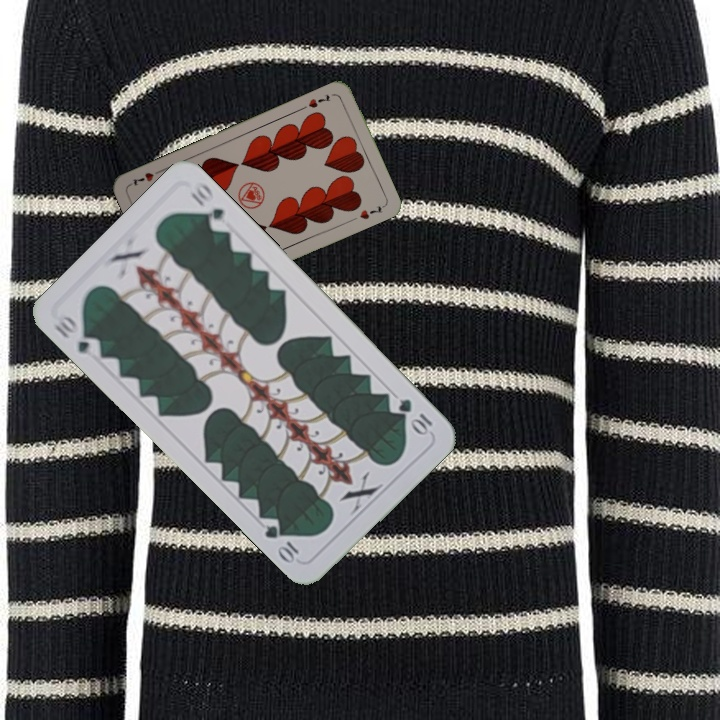G10: (50, 310, 104, 362), (394, 394, 435, 438)
H7: (304, 90, 333, 111)
